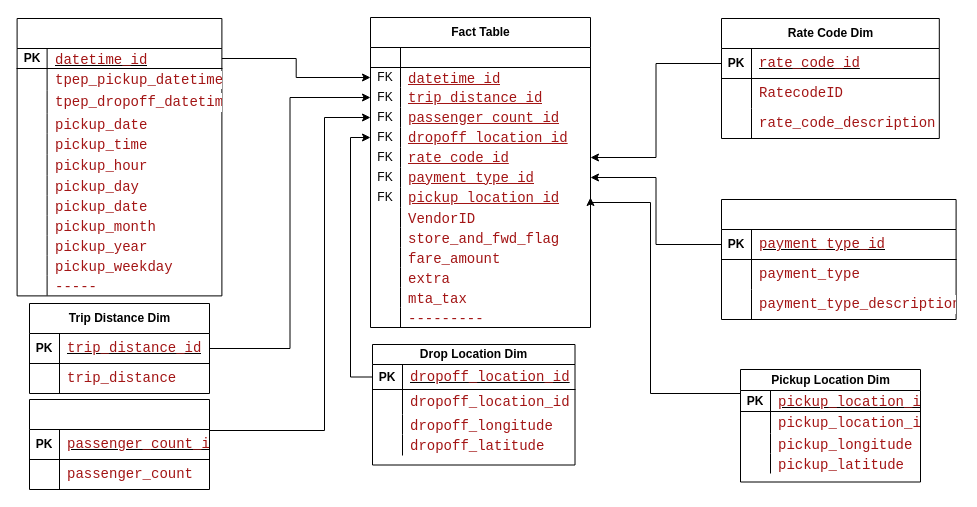
This 977x507 diagram has some shape labels left out. The box of each missing label's shape, as (x1, y1, x2, y2) in pixels:
Datetime Dim: (16, 18, 222, 296)
Passenger Count Dim: (28, 398, 210, 490)
Payment Type Dim: (720, 198, 956, 320)
